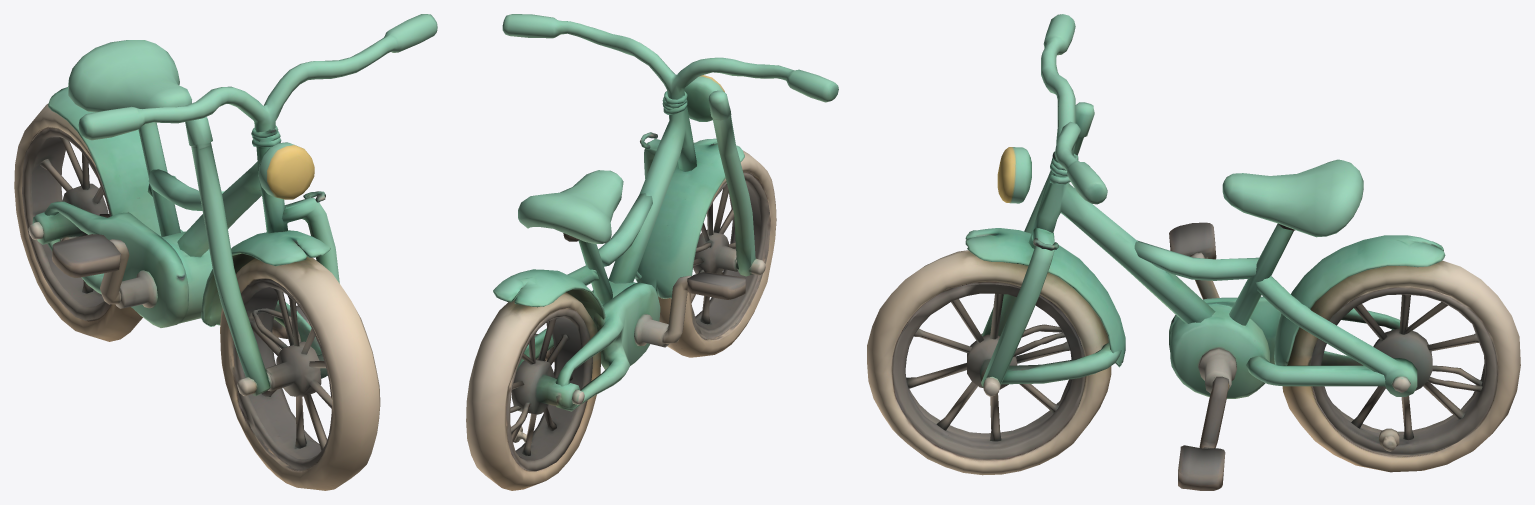
File: bicycle.glb
3 renders of one model, left to right at view 1: azimuth 30°, elevation 25°; view 2: azimuth 150°, elevation 25°; view 3: azimuth 270°, elevation 25°, orthographic. The views are drawn at different scales.
Visible parts, largest first — view 1: tripo_node_4b2e87eb-96c7-40ee-9506-36449e649658; view 2: tripo_node_4b2e87eb-96c7-40ee-9506-36449e649658; view 3: tripo_node_4b2e87eb-96c7-40ee-9506-36449e649658.
Boxes of the visible parts, <box> form: tripo_node_4b2e87eb-96c7-40ee-9506-36449e649658: <box>14,14,437,490</box>; tripo_node_4b2e87eb-96c7-40ee-9506-36449e649658: <box>466,14,838,490</box>; tripo_node_4b2e87eb-96c7-40ee-9506-36449e649658: <box>867,14,1520,490</box>.
Bounding box in the file's own units: 0.6387 × 0.6387 × 0.998.
1 material, 1 textured.
